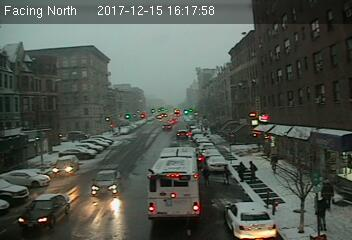bus: (146, 144, 202, 221)
car: (15, 191, 70, 231), (223, 201, 278, 240), (91, 169, 121, 197), (53, 156, 80, 176), (205, 156, 227, 171), (176, 129, 189, 138)
pedestrian: (236, 160, 249, 185), (221, 164, 233, 187), (248, 158, 258, 184), (269, 151, 280, 173)
